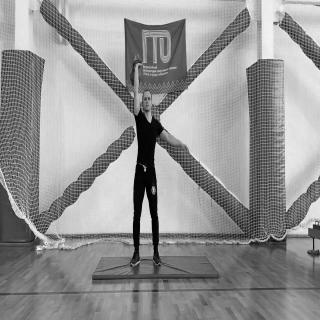kettlebell: (130, 59, 143, 88)
